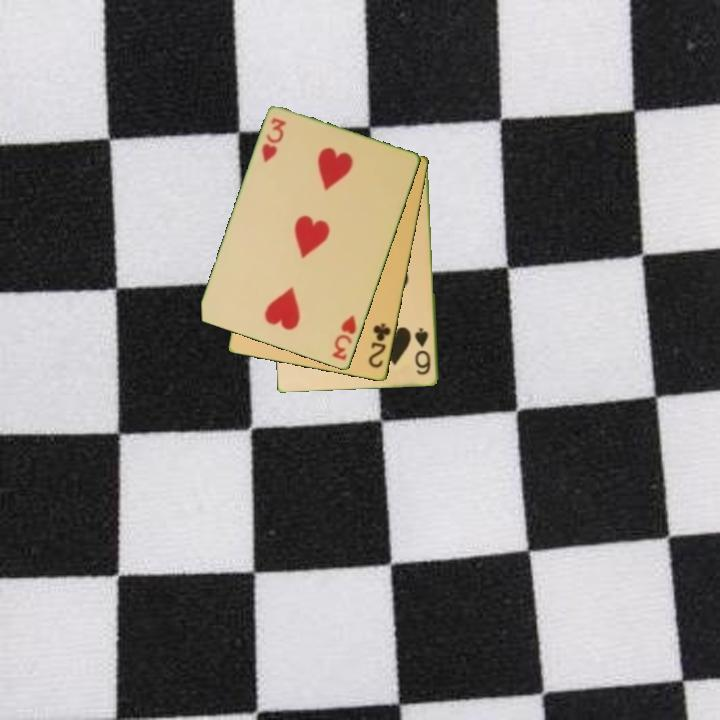2c: (365, 320, 394, 371)
3h: (258, 115, 290, 165), (329, 312, 359, 364)
6s: (412, 325, 434, 378)
